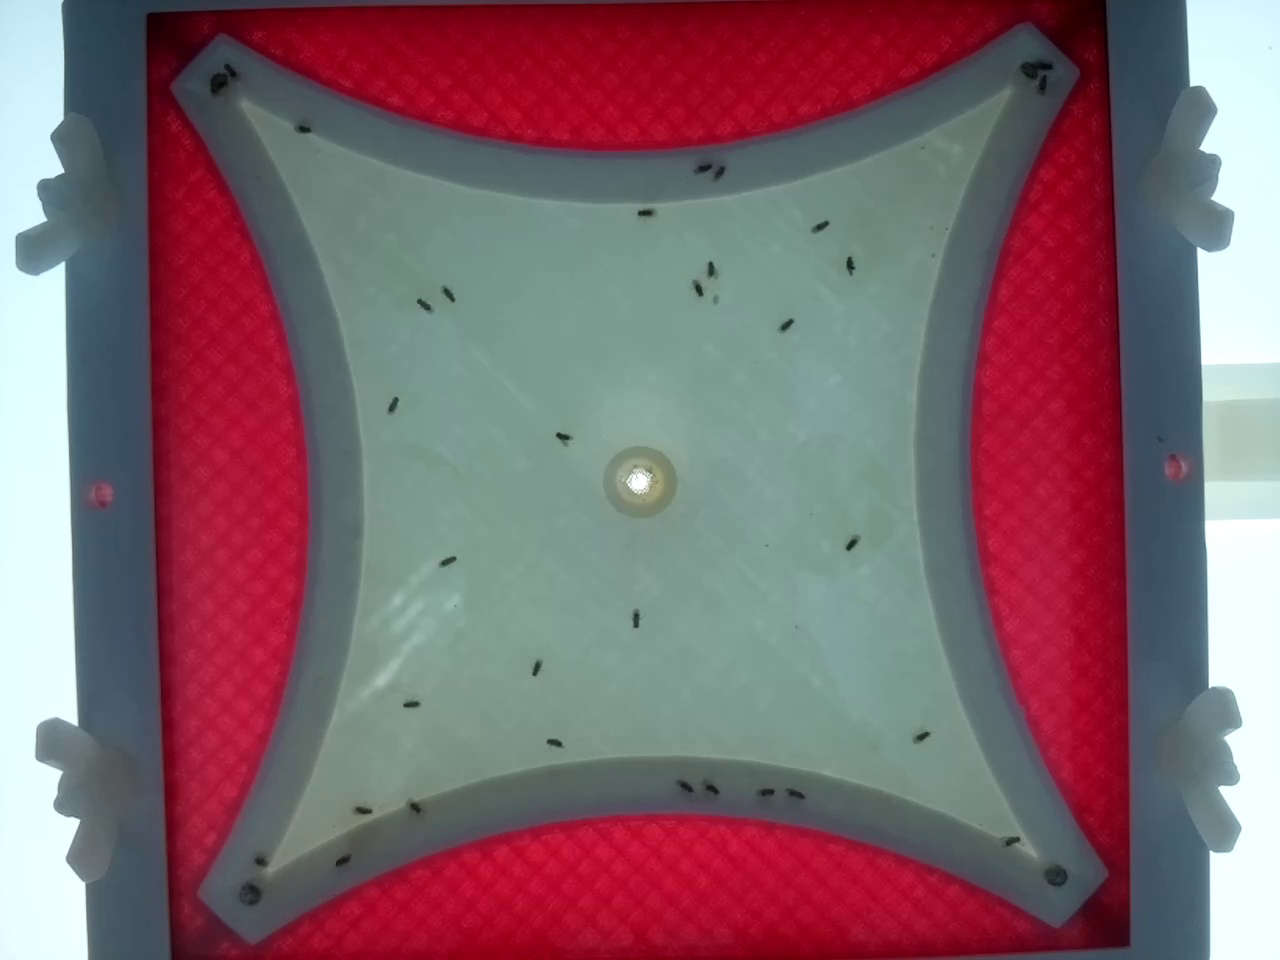fly: (807, 213, 833, 238), (1029, 71, 1054, 96), (207, 72, 232, 97), (631, 200, 656, 225), (836, 251, 861, 276), (291, 115, 316, 140), (773, 312, 798, 337), (381, 391, 406, 416), (623, 605, 648, 630), (549, 424, 574, 449), (909, 723, 934, 748), (403, 796, 428, 821), (348, 797, 373, 822), (246, 847, 271, 872), (326, 850, 351, 875), (997, 829, 1022, 854), (541, 730, 566, 755), (237, 874, 262, 899), (398, 691, 423, 716), (784, 781, 809, 806), (217, 56, 242, 81), (1033, 53, 1058, 78), (694, 153, 719, 178), (698, 256, 723, 281), (711, 159, 736, 184), (411, 292, 436, 317), (840, 531, 865, 556), (434, 548, 459, 573), (524, 655, 549, 680), (671, 772, 696, 797), (754, 778, 779, 803), (685, 277, 710, 302), (435, 282, 460, 307), (698, 775, 723, 800)
